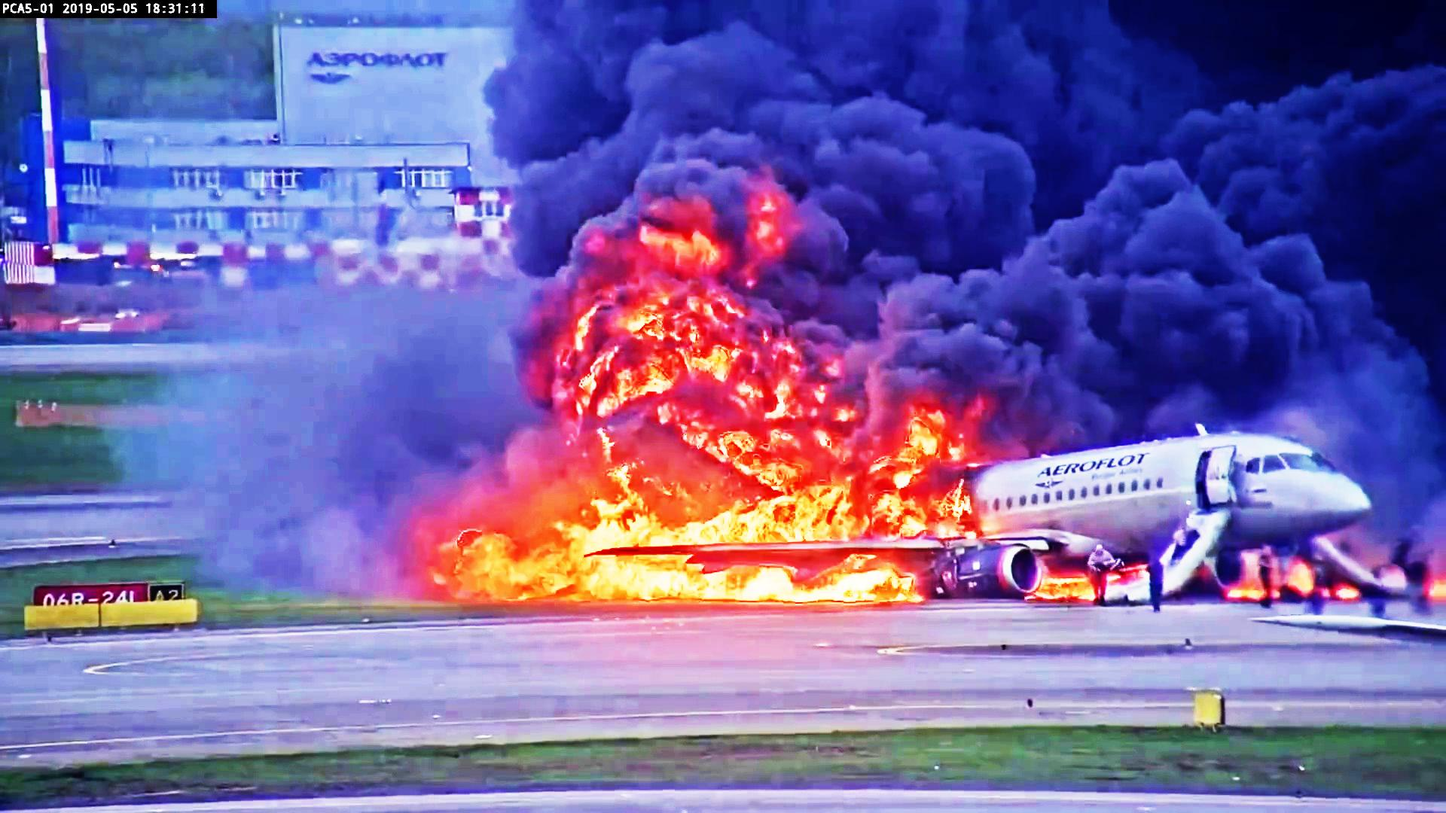fire: (563, 484, 914, 547), (499, 563, 907, 604)
smoke: (866, 183, 1273, 423)
